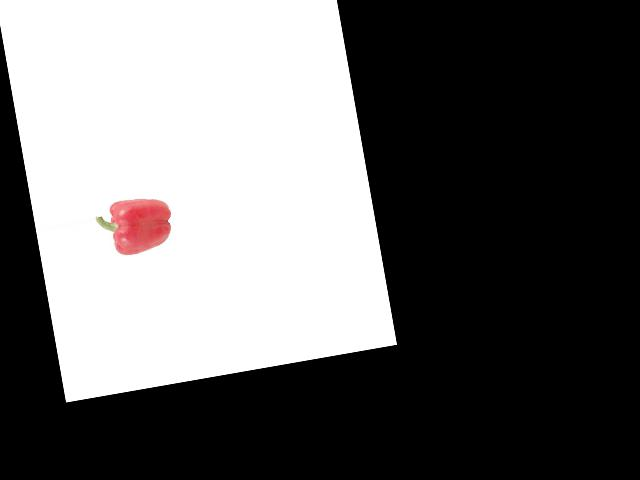bell_pepper: (93, 190, 178, 267)
